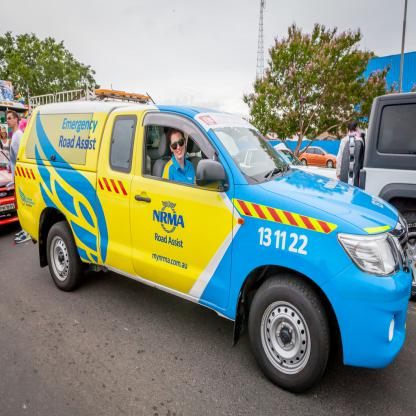Car: (14, 104, 411, 394), (356, 97, 416, 301), (0, 149, 20, 228), (300, 147, 336, 169)
